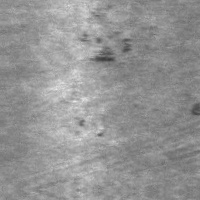rolled-in_scale: (75, 6, 136, 65)
